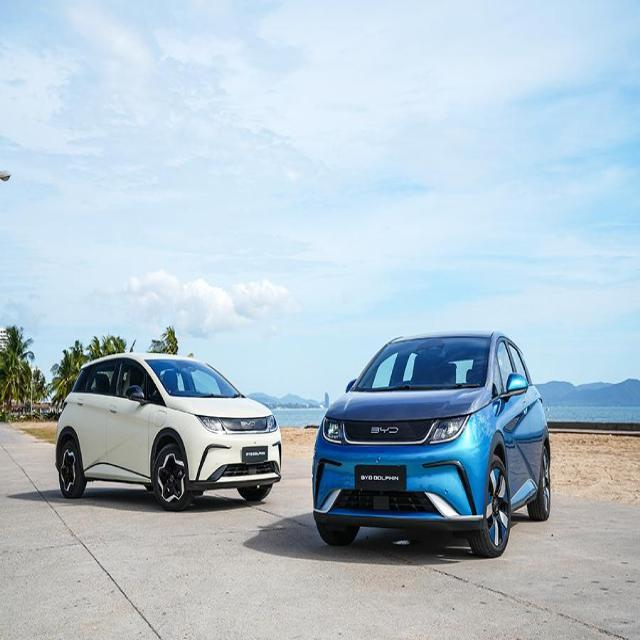Hatchback: (312, 333, 552, 560), (54, 354, 284, 511)
